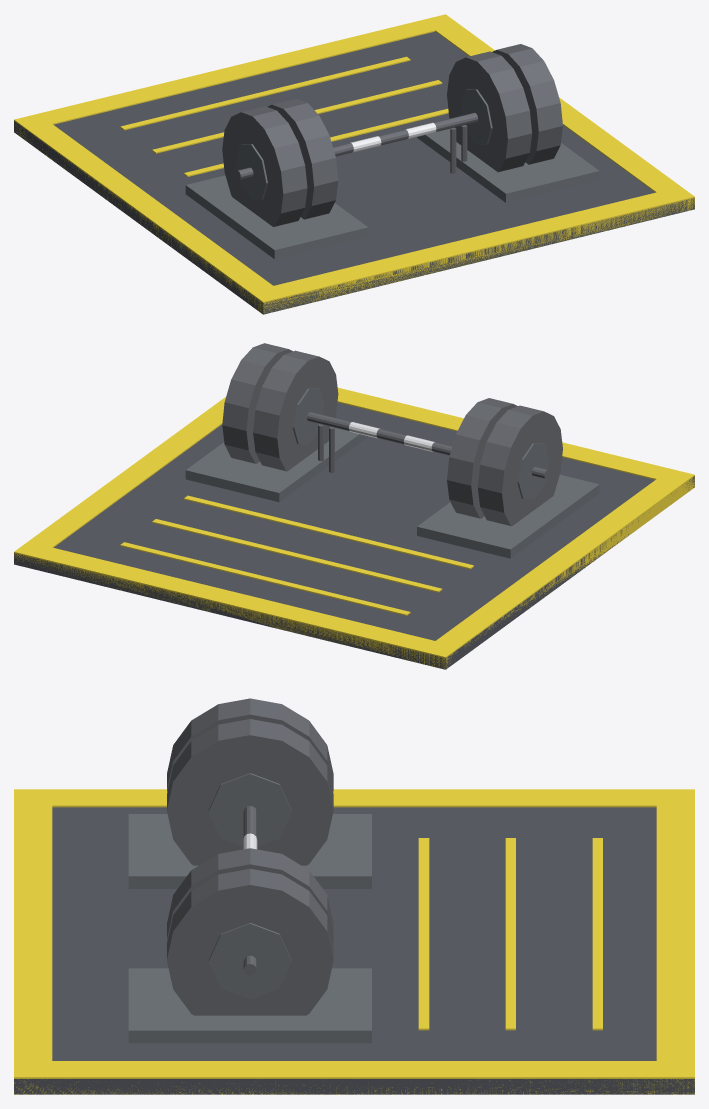
Rendered from Table5_TireDeadlift.fbx.
3 views of the same model, one above another, from view 1: azimuth 30°, elevation 25°; view 2: azimuth 150°, elevation 25°; view 3: azimuth 270°, elevation 25° (orthographic). The views are drawn at different scales.
Parts seen in each view (by area): view 1: Table5, Table5_RimNS_-1, Table5_RimNS_1, Cylinder.150, Table5_RimEW_-1, Cylinder.154, Cube.076, Cube.077, Cylinder.148, Cylinder.156, Table5_RimEW_1, Cube.080 (+5 smaller); view 2: Table5, Table5_RimNS_1, Table5_RimEW_-1, Cylinder.150, Cylinder.154, Cube.076, Cube.077, Table5_RimEW_1, Table5_RimNS_-1, Cylinder.156, Cylinder.148, Cube.080 (+5 smaller); view 3: Table5, Cylinder.156, Cylinder.148, Table5_RimEW_1, Cube.077, Table5_RimNS_1, Table5_RimNS_-1, Table5_RimEW_-1, Cube.076, Cylinder.157, Cylinder.149, Cylinder.150 (+5 smaller).
Part boxes in pixels (x1=…): Table5: x1=14, y1=31, x2=694, y2=314; Table5_RimNS_-1: x1=249, y1=186, x2=694, y2=313; Table5_RimNS_1: x1=14, y1=14, x2=459, y2=141; Cylinder.150: x1=222, y1=106, x2=307, y2=226; Table5_RimEW_-1: x1=28, y1=124, x2=272, y2=303; Cylinder.154: x1=447, y1=51, x2=532, y2=172; Cube.076: x1=185, y1=175, x2=368, y2=259; Cube.077: x1=417, y1=128, x2=599, y2=202; Cylinder.148: x1=267, y1=98, x2=338, y2=219; Cylinder.156: x1=492, y1=44, x2=562, y2=164; Table5_RimEW_1: x1=435, y1=24, x2=680, y2=192; Cube.080: x1=120, y1=56, x2=410, y2=130; Table5: x1=14, y1=402, x2=694, y2=669; Table5_RimNS_1: x1=14, y1=541, x2=459, y2=668; Table5_RimEW_-1: x1=436, y1=479, x2=680, y2=647; Cylinder.150: x1=477, y1=405, x2=562, y2=526; Cylinder.154: x1=253, y1=350, x2=338, y2=471; Cube.076: x1=417, y1=474, x2=599, y2=558; Cube.077: x1=185, y1=428, x2=368, y2=501; Table5_RimEW_1: x1=28, y1=397, x2=225, y2=547; Table5_RimNS_-1: x1=337, y1=387, x2=694, y2=497; Cylinder.156: x1=222, y1=343, x2=292, y2=463; Cylinder.148: x1=447, y1=398, x2=517, y2=518; Cube.080: x1=120, y1=542, x2=410, y2=615; Table5: x1=14, y1=807, x2=694, y2=1094; Cylinder.156: x1=167, y1=868, x2=333, y2=1015; Cylinder.148: x1=167, y1=719, x2=333, y2=865; Table5_RimEW_1: x1=52, y1=1061, x2=656, y2=1094; Cube.077: x1=128, y1=968, x2=371, y2=1043; Table5_RimNS_1: x1=656, y1=789, x2=694, y2=1094; Table5_RimNS_-1: x1=14, y1=789, x2=52, y2=1094; Table5_RimEW_-1: x1=52, y1=789, x2=656, y2=807; Cube.076: x1=128, y1=814, x2=371, y2=888; Cylinder.157: x1=208, y1=922, x2=291, y2=999; Cylinder.149: x1=208, y1=773, x2=291, y2=846; Cylinder.150: x1=167, y1=698, x2=333, y2=791.
Size of the model in its own units: 3.92 by 3.92 by 1.01.
